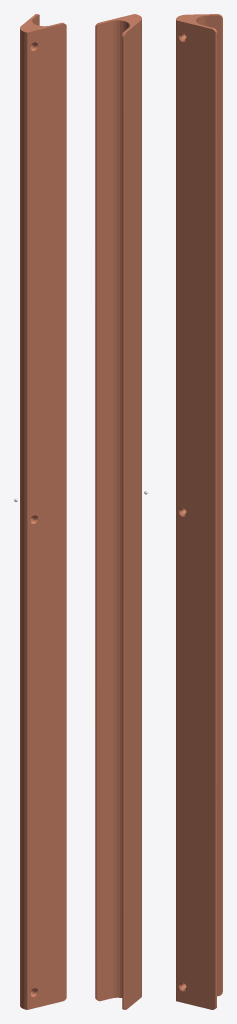
Rendered from 163 pvd r gold.glb.
3 renders of one model, left to right at view 1: azimuth 30°, elevation 25°; view 2: azimuth 210°, elevation 25°; view 3: azimuth 330°, elevation 25°, orthographic.
Visible parts, largest first — view 1: CABINET_HANDLE_163; view 2: CABINET_HANDLE_163; view 3: CABINET_HANDLE_163.
Part boxes in pixels (x1,y1,x2,y2): CABINET_HANDLE_163: (20, 14, 66, 1009); CABINET_HANDLE_163: (95, 14, 141, 1009); CABINET_HANDLE_163: (176, 14, 222, 1009).
Size of the model in its own units: 0.4775 by 10.07 by 0.3338.
